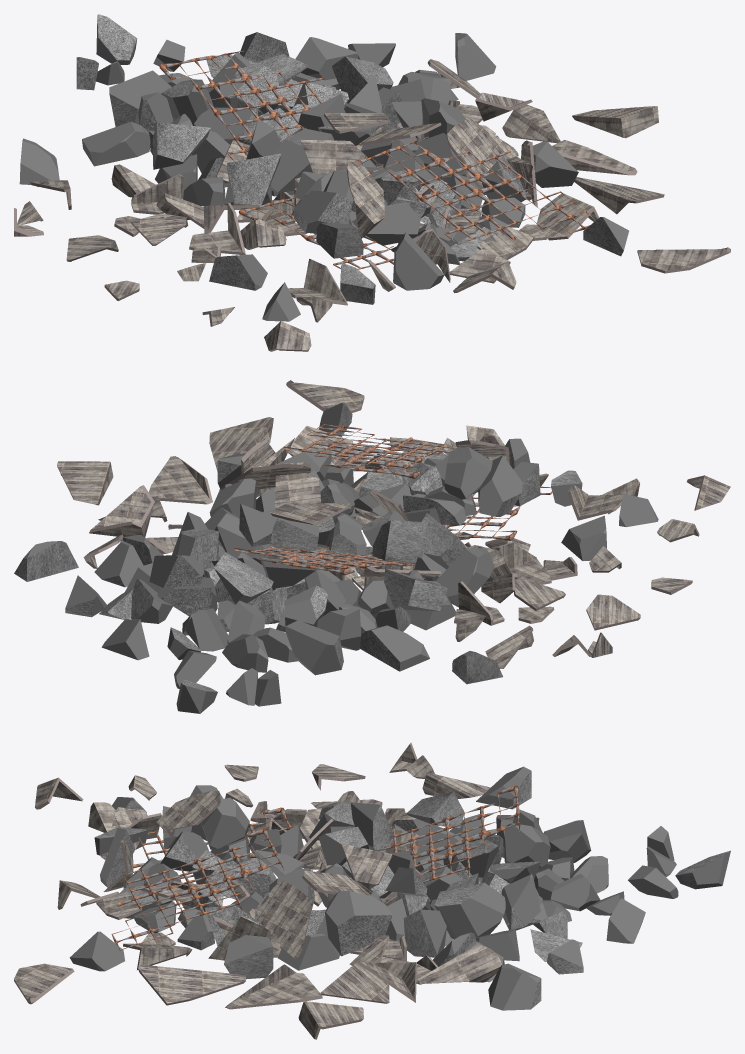
The model's file is debris.dae.
The picture shows the model from 3 angles, top to bottom: view 1: azimuth 30°, elevation 25°; view 2: azimuth 150°, elevation 25°; view 3: azimuth 270°, elevation 25°; orthographic projection. The views are drawn at different scales.
Parts seen in each view (by area): view 1: Piece_14 (×4), Plane.2, Piece_15 (×4), Piece_32 (×3), Piece_42 (×2), Piece_30 (×3), Piece_13 (×3), Piece_17 (×3), Piece_20 (×3), Piece_31 (×3), Plane, Piece_9 (×2) (+30 smaller); view 2: Piece_15 (×4), Piece_0 (×4), Piece_9 (×2), Piece_17 (×2), Piece_3 (×3), Piece_14 (×3), Plane.2, Piece_42 (×2), Piece_8 (×2), Piece_29 (×2), Piece_26 (×3), Piece_32 (×3) (+31 smaller); view 3: Piece_17 (×4), Piece_20 (×2), Piece_14 (×4), Piece_32 (×3), Plane.2, Piece_1 (×3), Piece_13 (×2), Piece_15 (×3), Piece_29 (×2), Plane, Piece_11 (×2), Piece_3 (×3) (+31 smaller).
Boxes of the visible parts, x1=… form: Piece_14 (×4): x1=109, y1=70, x2=385, y2=238; Plane.2: x1=355, y1=136, x2=595, y2=244; Piece_15 (×4): x1=19, y1=118, x2=281, y2=261; Piece_32 (×3): x1=189, y1=141, x2=578, y2=305; Piece_42 (×2): x1=152, y1=122, x2=280, y2=205; Piece_30 (×3): x1=194, y1=107, x2=534, y2=259; Piece_13 (×3): x1=234, y1=54, x2=518, y2=174; Piece_17 (×3): x1=392, y1=101, x2=664, y2=214; Piece_20 (×3): x1=332, y1=56, x2=466, y2=282; Piece_31 (×3): x1=192, y1=131, x2=510, y2=283; Plane: x1=159, y1=50, x2=367, y2=161; Piece_9 (×2): x1=82, y1=121, x2=225, y2=205; Piece_15 (×4): x1=372, y1=520, x2=640, y2=684; Piece_0 (×4): x1=101, y1=518, x2=533, y2=668; Piece_9 (×2): x1=359, y1=547, x2=494, y2=671; Piece_17 (×2): x1=148, y1=417, x2=273, y2=504; Piece_3 (×3): x1=222, y1=473, x2=466, y2=672; Piece_14 (×3): x1=285, y1=440, x2=509, y2=675; Plane.2: x1=284, y1=424, x2=457, y2=478; Piece_42 (×2): x1=384, y1=513, x2=466, y2=611; Piece_8 (×2): x1=57, y1=461, x2=361, y2=650; Piece_29 (×2): x1=284, y1=447, x2=492, y2=632; Piece_26 (×3): x1=247, y1=380, x2=442, y2=624; Piece_32 (×3): x1=217, y1=453, x2=622, y2=584; Piece_17 (×4): x1=138, y1=898, x2=519, y2=1009; Piece_20 (×2): x1=325, y1=882, x2=505, y2=956; Piece_14 (×4): x1=156, y1=790, x2=591, y2=865; Piece_32 (×3): x1=111, y1=807, x2=446, y2=979; Plane.2: x1=111, y1=828, x2=284, y2=950; Piece_1 (×3): x1=320, y1=929, x2=582, y2=1003; Piece_13 (×2): x1=255, y1=861, x2=540, y2=958; Piece_15 (×3): x1=312, y1=764, x2=531, y2=850; Piece_29 (×2): x1=201, y1=797, x2=550, y2=867; Plane: x1=378, y1=785, x2=520, y2=904; Piece_11 (×2): x1=433, y1=932, x2=541, y2=1010; Piece_3 (×3): x1=248, y1=829, x2=608, y2=895.
Bounding box in the file's own units: 986 × 136 × 1072.
4 materials, 4 textured.
